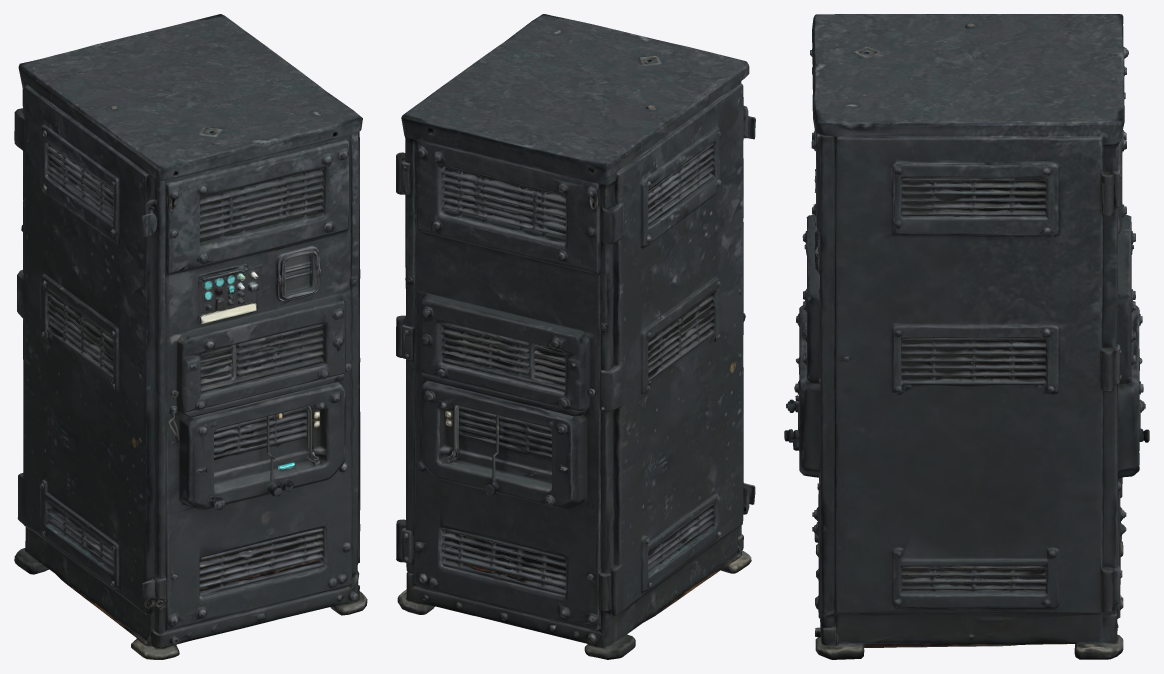
File: server.glb
3 views of the same model, side by side, from view 1: azimuth 30°, elevation 25°; view 2: azimuth 150°, elevation 25°; view 3: azimuth 270°, elevation 25° (orthographic). The views are drawn at different scales.
Bounding box in the file's own units: 0.4716 × 0.9793 × 0.6033.
Materials: 1 (1 with a texture image).
